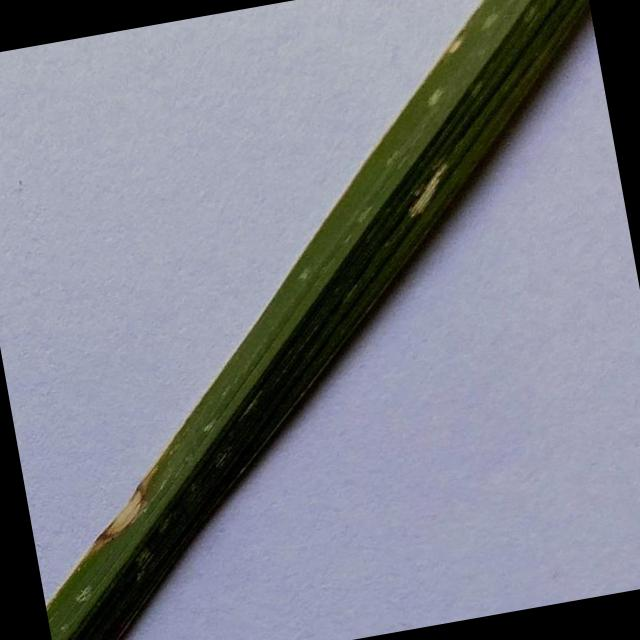Rice_Blast: (74, 460, 168, 547), (385, 141, 465, 226)
